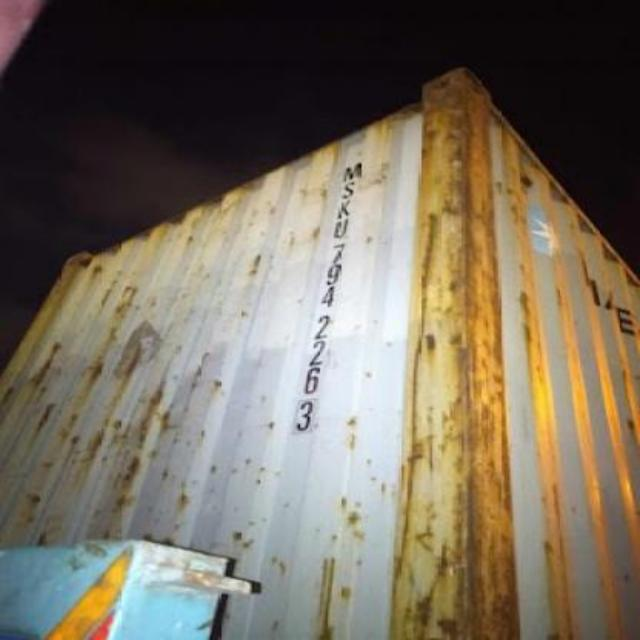2: (312, 314, 336, 341), (308, 343, 334, 367)
3: (292, 400, 318, 436)
4: (320, 284, 338, 308)
6: (300, 368, 328, 397)
7: (324, 243, 352, 261)
9: (324, 262, 348, 286)
K: (334, 199, 358, 217)
M: (340, 163, 368, 179)
S: (340, 180, 364, 198)
U: (330, 218, 356, 240)
